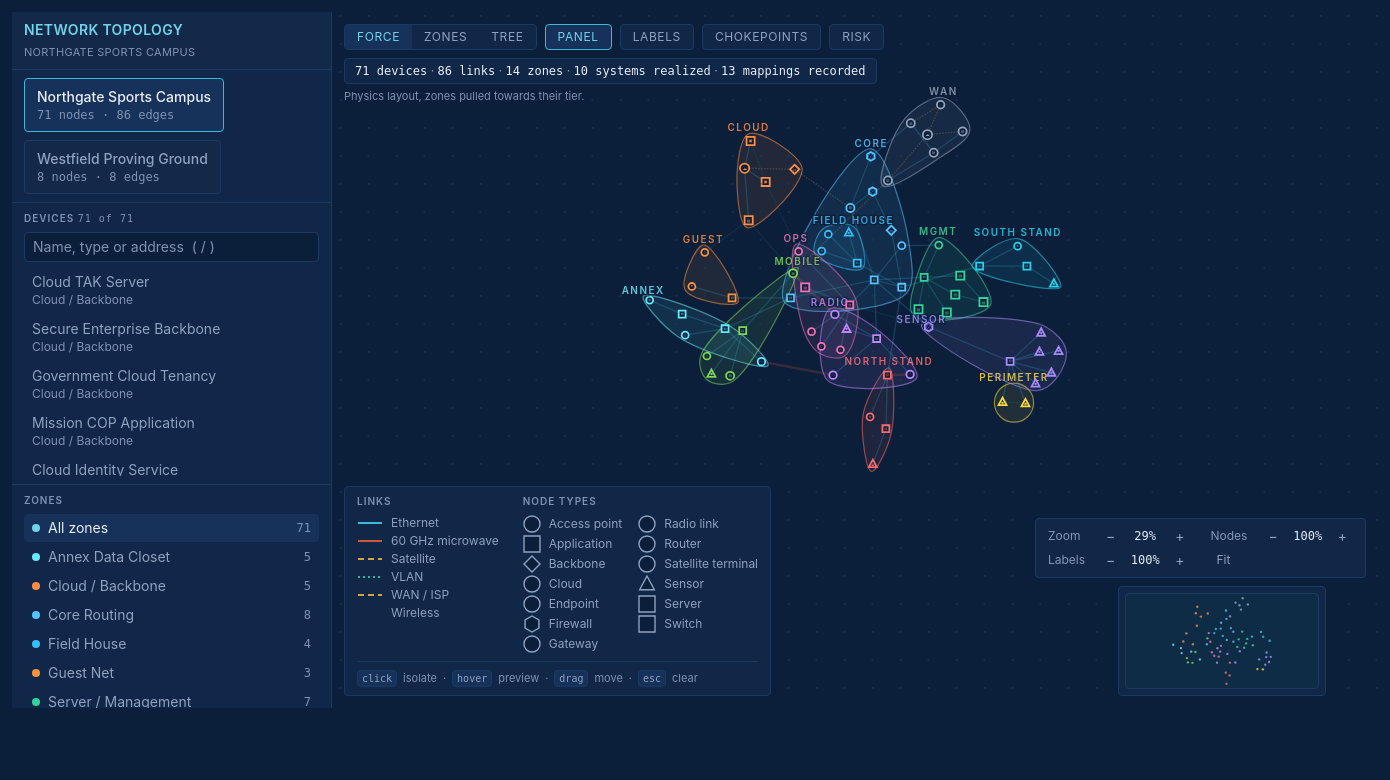
Network Topology › switches to Westfield Proving Ground without stale counts
Step 1. Click the button "Westfield Proving Ground 8 nodes · 8 edges" → (122, 166), box [24, 140, 221, 194]
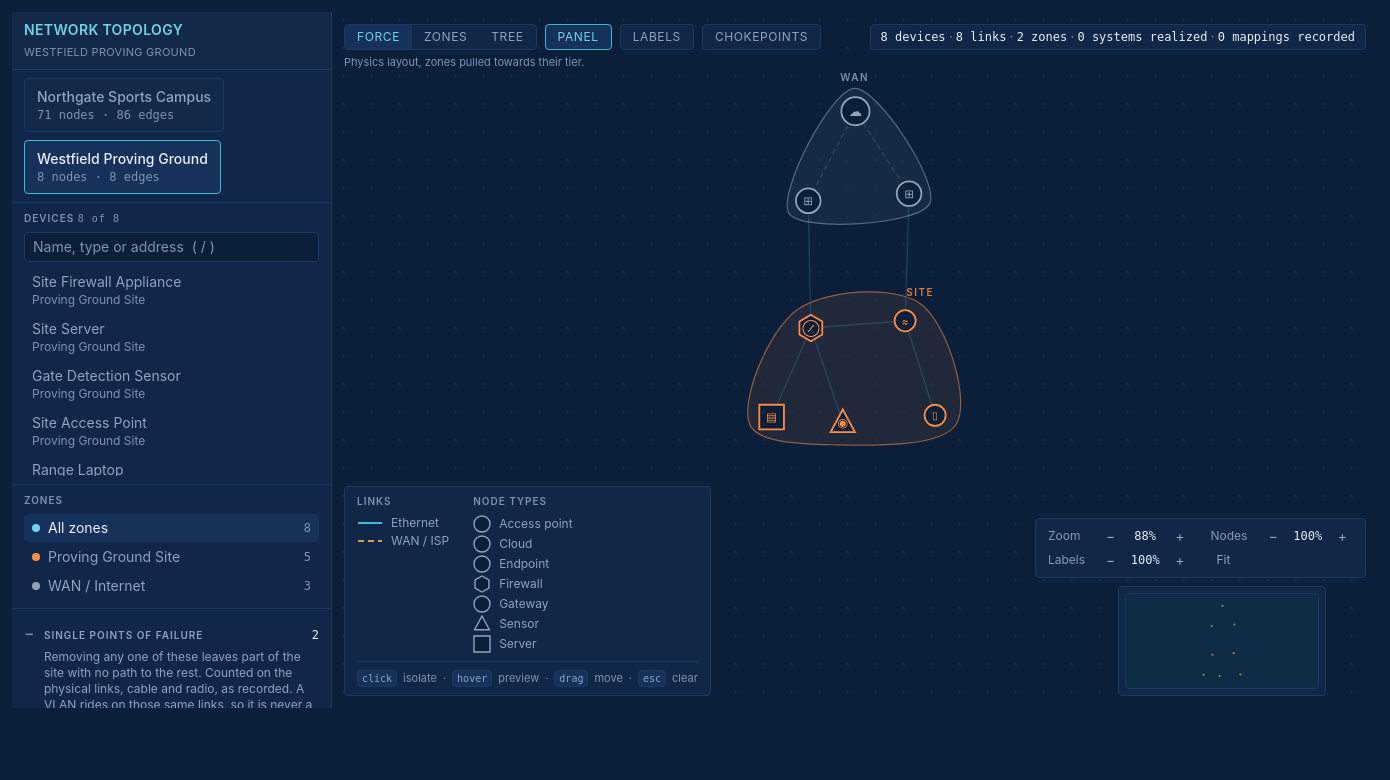
Expected: the text "8 devices" is shown, [881, 30, 946, 44]
Expected: the text "71 devices" is gone
